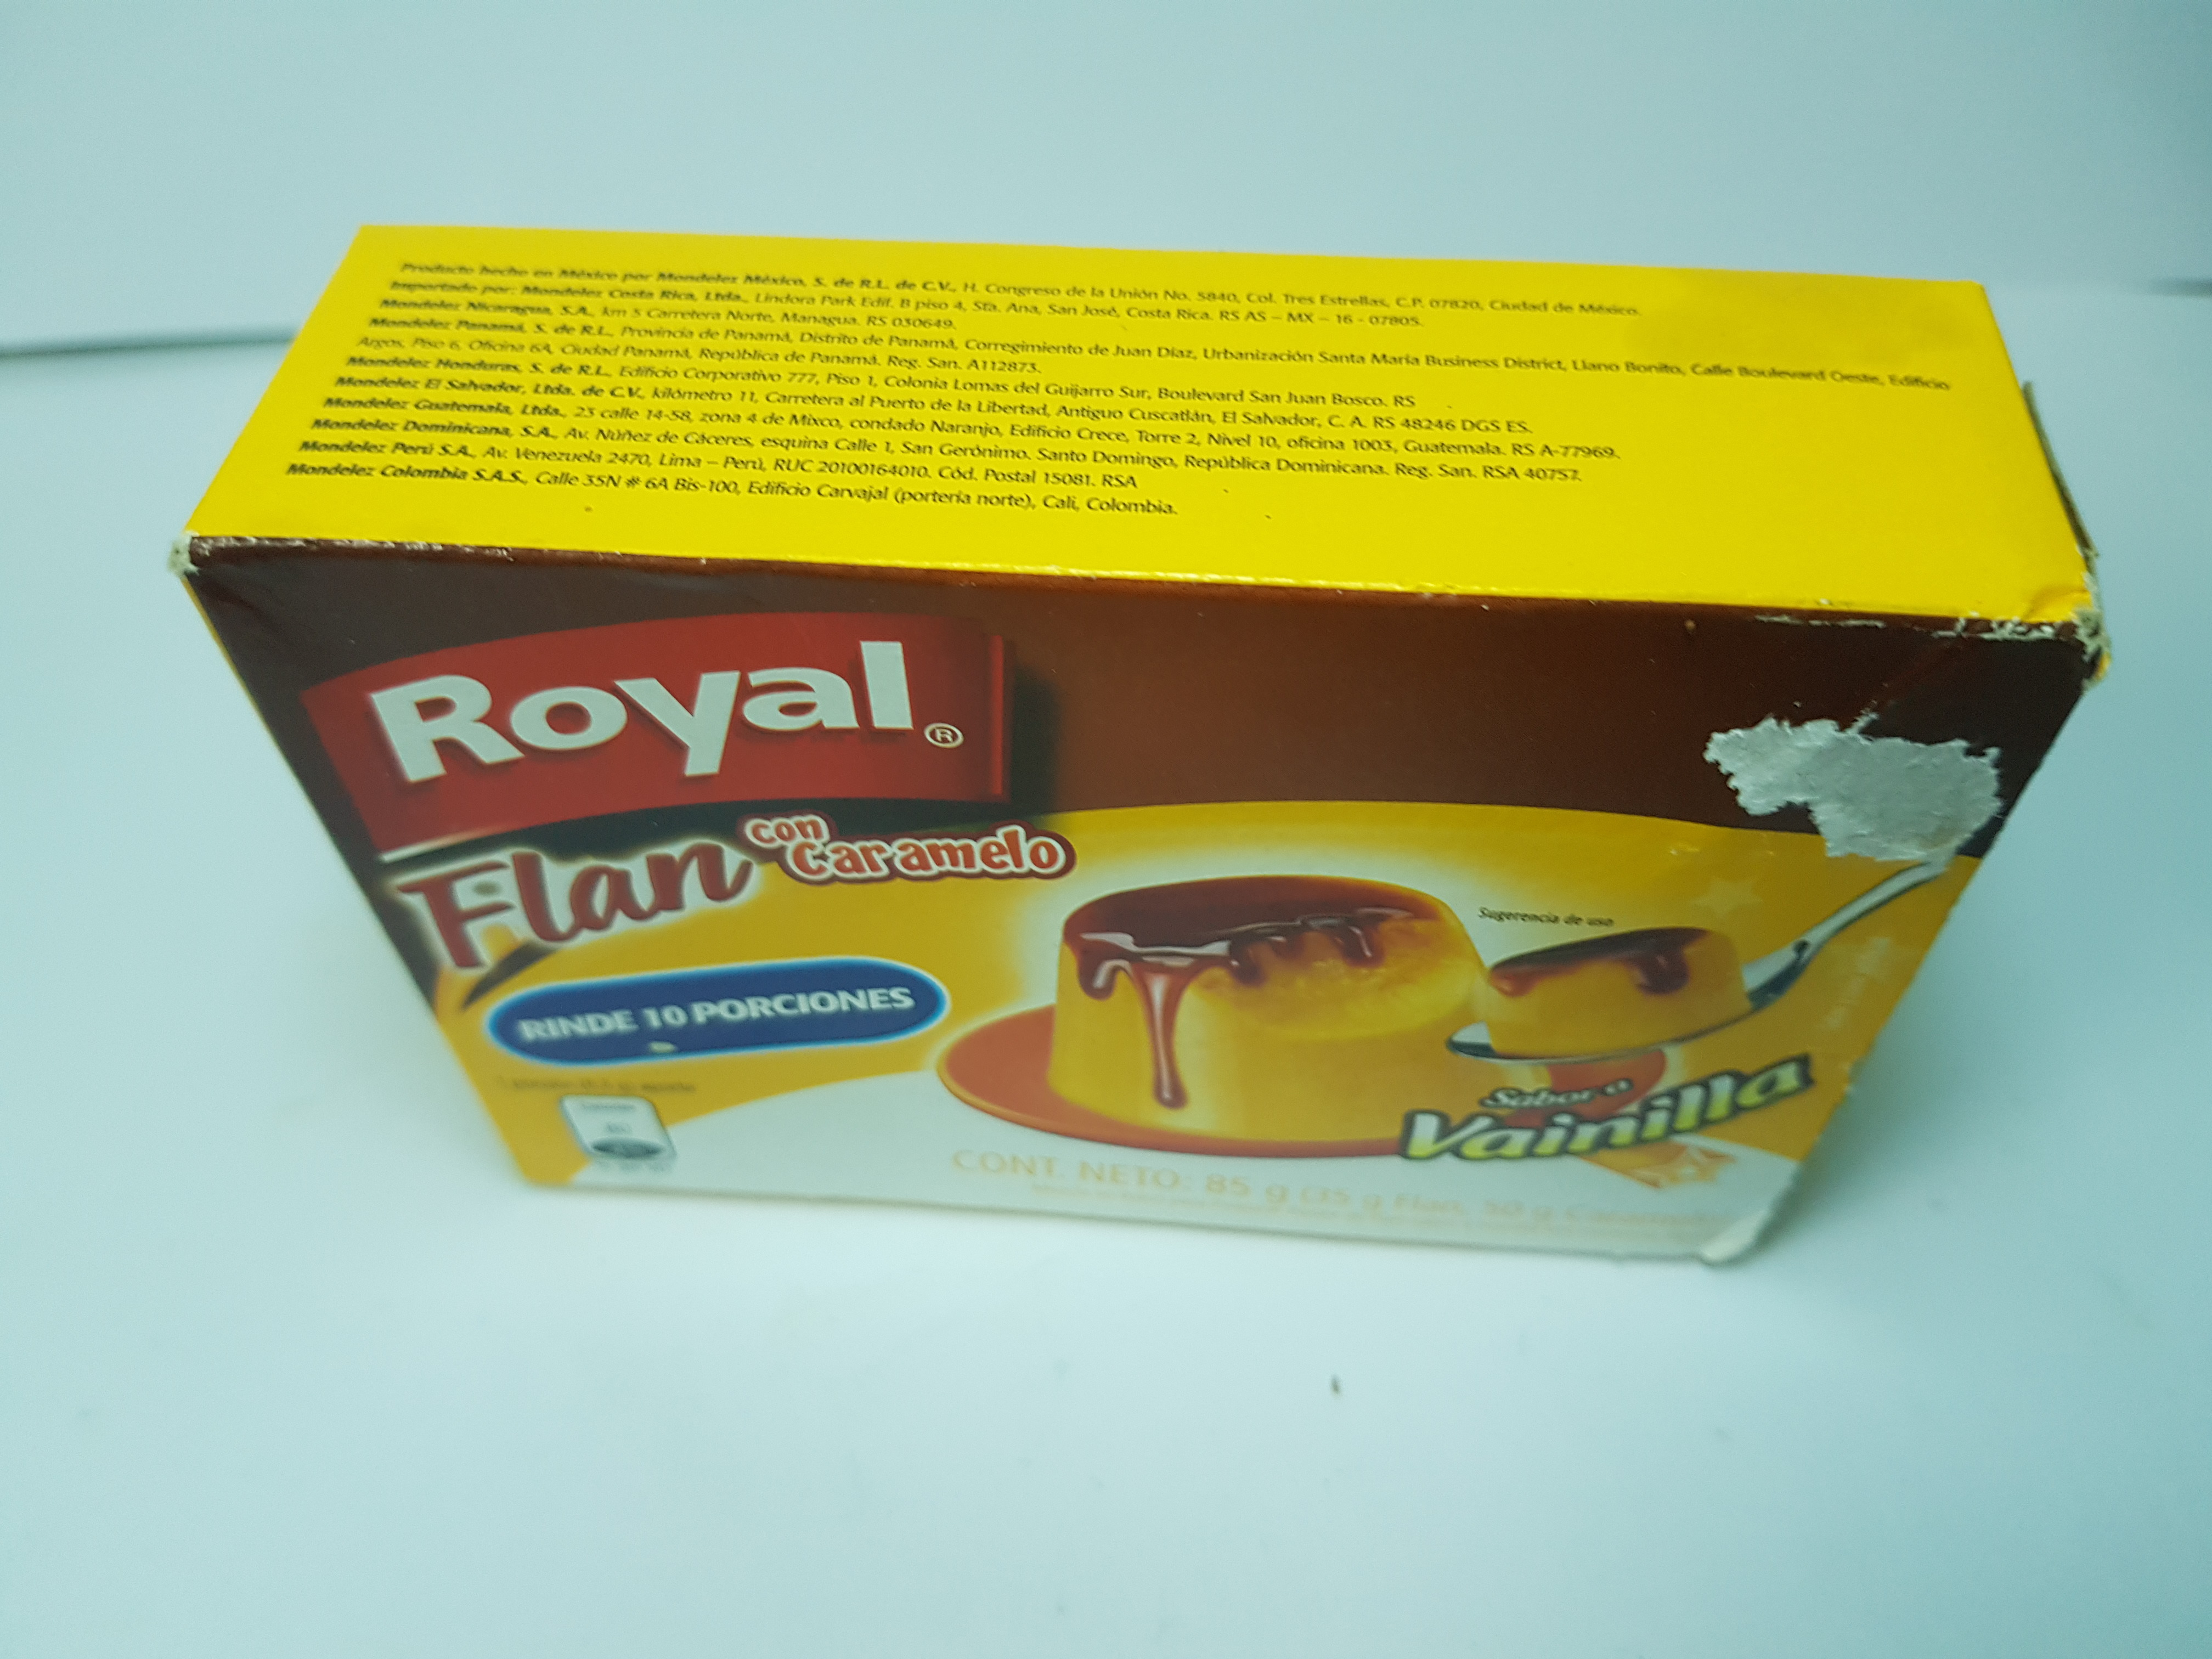flan: (171, 192, 2121, 1269)
